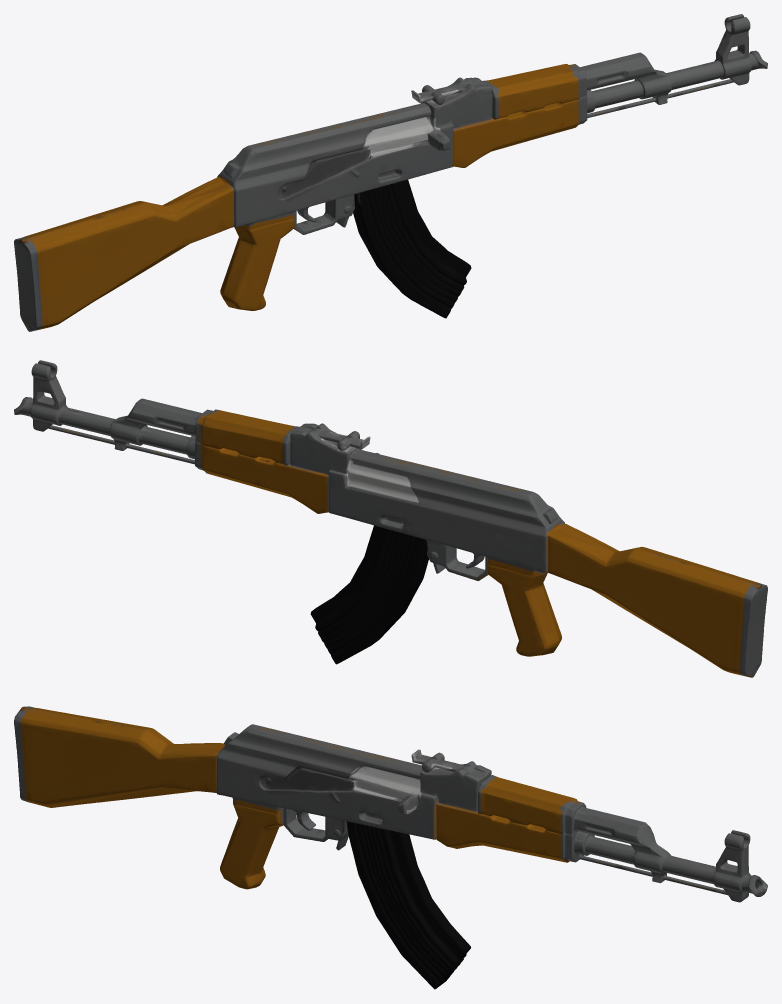
Rendered from rifle.glb.
3 renders of one model, top to bottom at view 1: azimuth 30°, elevation 25°; view 2: azimuth 150°, elevation 25°; view 3: azimuth 330°, elevation 25°, orthographic.
Parts seen in each view (by area): view 1: node_0; view 2: node_0; view 3: node_0.
Part boxes in pixels (x1,y1,x2,y2): node_0: (14,14,767,331); node_0: (14,360,767,677); node_0: (14,706,767,989).
Bounding box in the file's own units: 1.18 × 0.3477 × 0.0894.
1 material, 1 textured.
